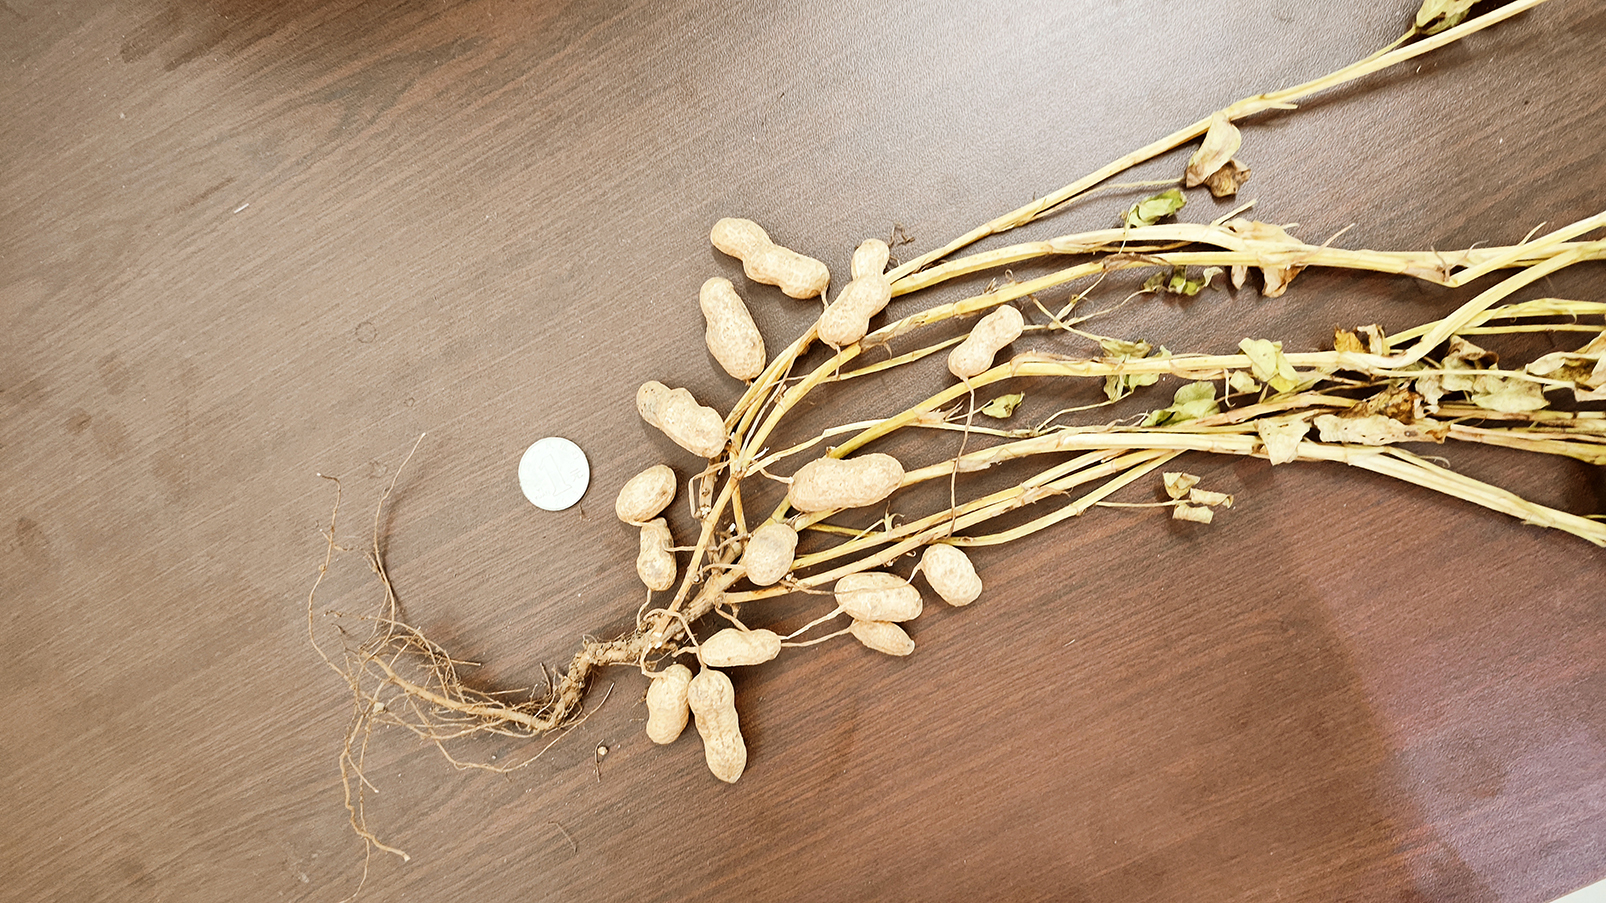h: (709, 213, 832, 298), (817, 238, 893, 352), (687, 668, 749, 785), (789, 451, 906, 510), (636, 380, 726, 456), (702, 276, 764, 378), (947, 303, 1024, 378), (832, 572, 923, 621), (920, 542, 981, 608), (646, 663, 692, 746), (615, 462, 678, 520), (743, 522, 797, 584), (636, 518, 679, 593), (700, 628, 782, 664), (852, 619, 914, 655)
